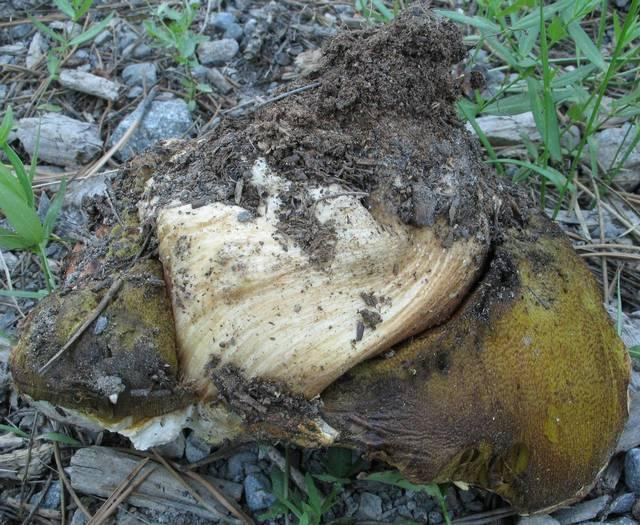edible_mushroom: (7, 3, 632, 516)
